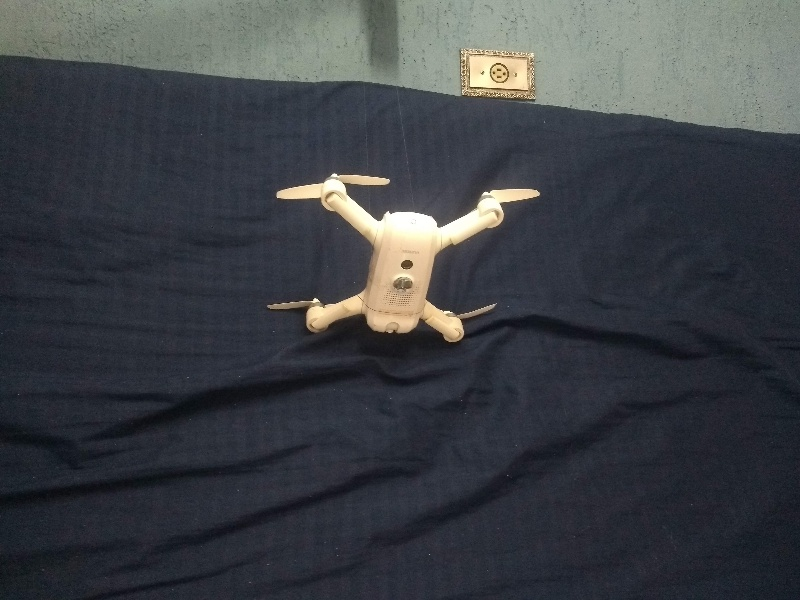drone: (266, 164, 540, 351)
